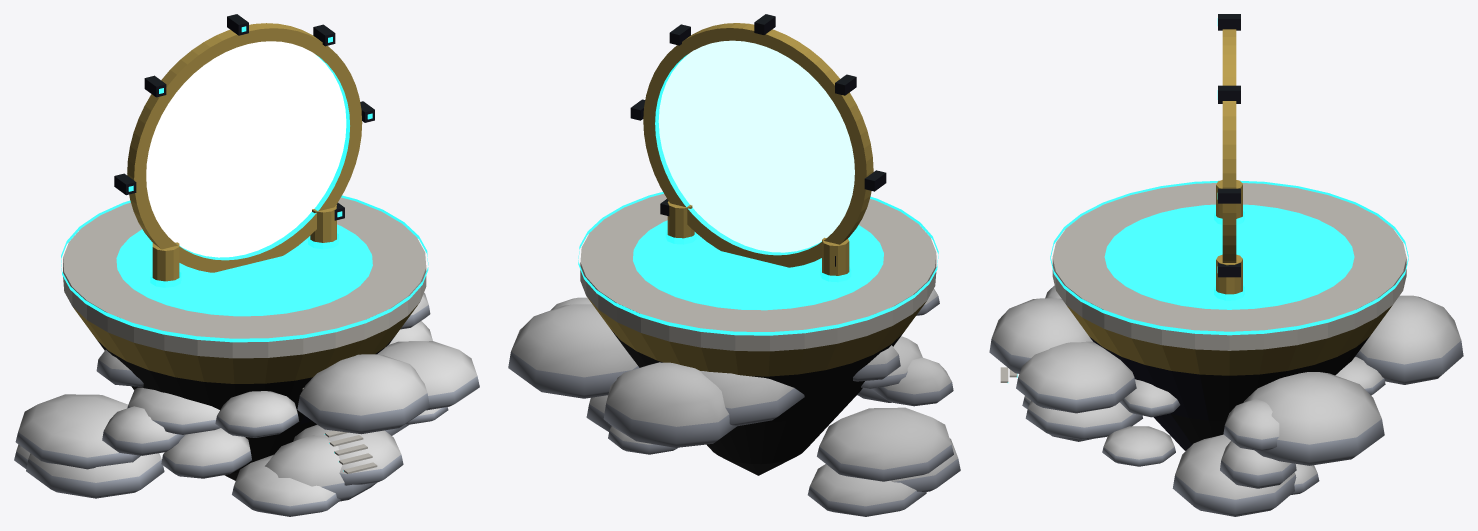
File: shaddai_edge_portal_v01.glb
3 renders of one model, left to right at view 1: azimuth 30°, elevation 25°; view 2: azimuth 150°, elevation 25°; view 3: azimuth 270°, elevation 25°, orthographic. The views are drawn at different scales.
Visible parts, largest first — view 1: shaddai_edge_portal; view 2: shaddai_edge_portal; view 3: shaddai_edge_portal.
Boxes of the visible parts, x1=… form: shaddai_edge_portal: x1=14, y1=14, x2=479, y2=516; shaddai_edge_portal: x1=508, y1=14, x2=960, y2=516; shaddai_edge_portal: x1=989, y1=14, x2=1463, y2=516.
Bounding box in the file's own units: 87.71 × 96.36 × 91.08.
